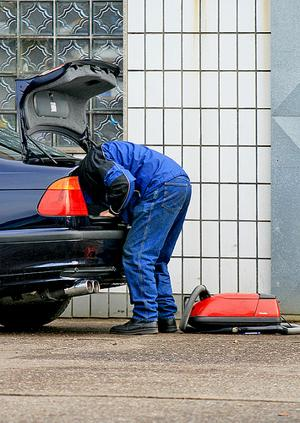person: (78, 139, 193, 335)
